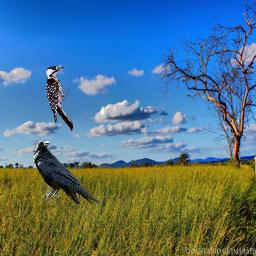Crow: (33, 140, 100, 204)
Woodpecker: (45, 66, 73, 131)
